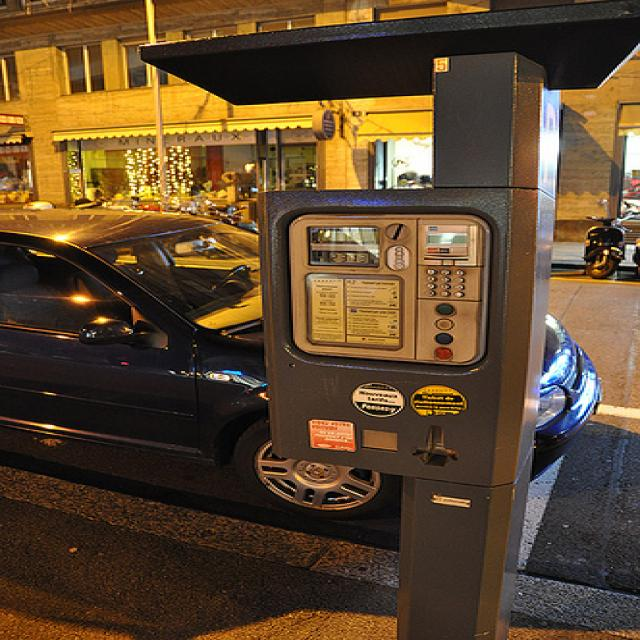motor: (585, 216, 634, 279)
